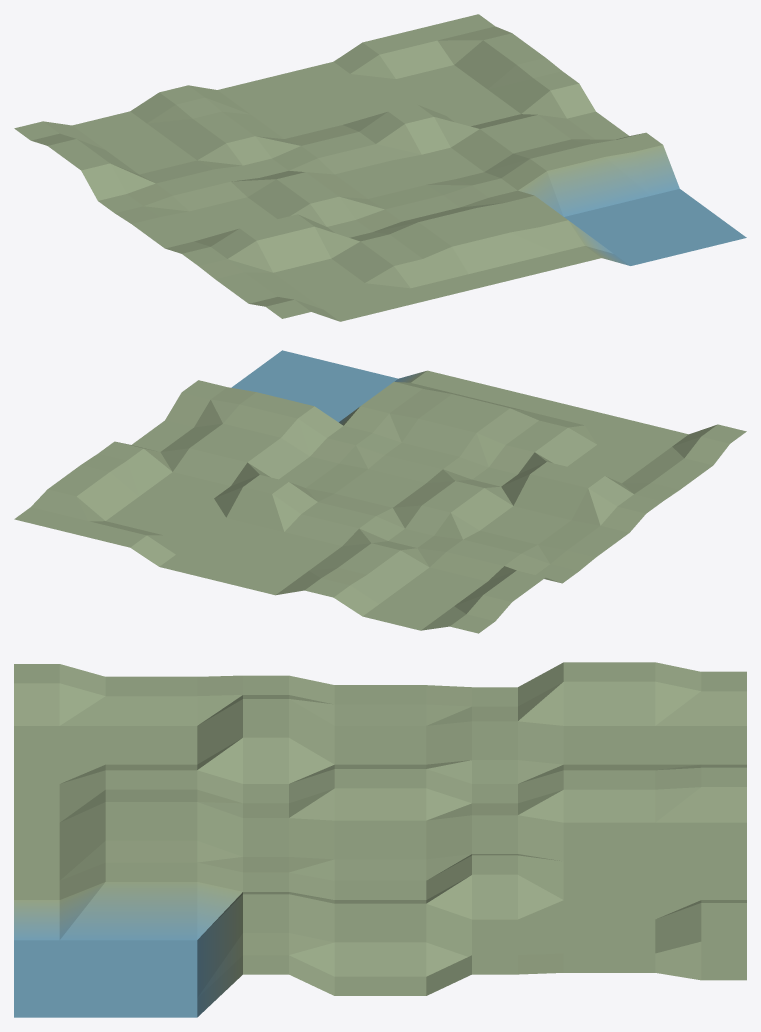
3 renders of one model, top to bottom at view 1: azimuth 30°, elevation 25°; view 2: azimuth 150°, elevation 25°; view 3: azimuth 270°, elevation 25°, orthographic. The views are drawn at different scales.
Bounding box in the file's own units: 32 × 2.3 × 32.
